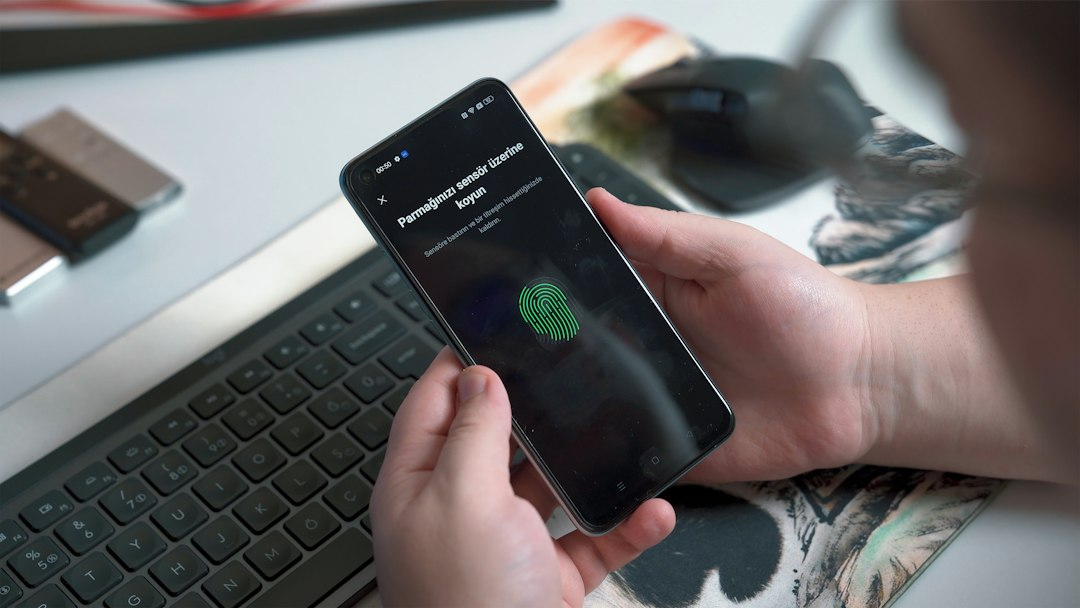phone: (339, 76, 738, 539)
